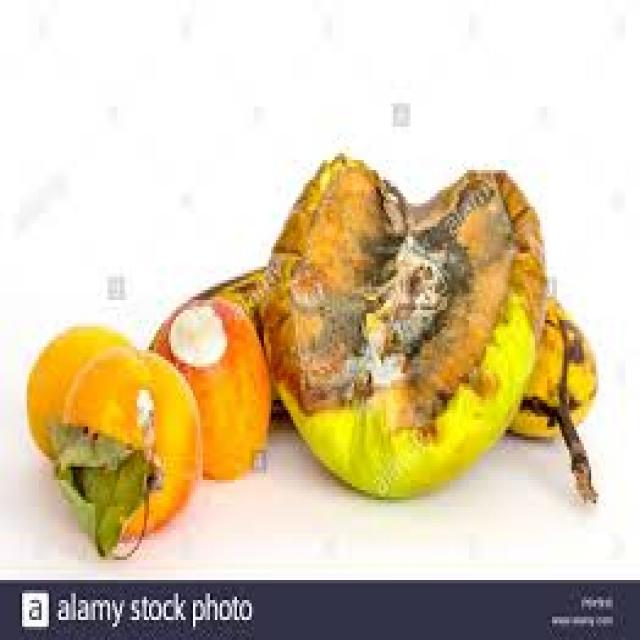organic waste: (147, 263, 596, 500), (259, 147, 542, 493), (63, 343, 198, 537), (149, 293, 266, 477), (44, 416, 159, 556), (24, 323, 130, 460)
